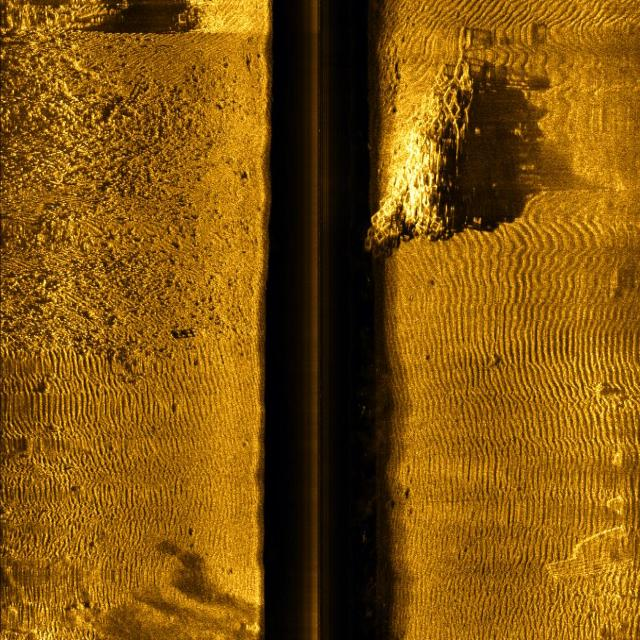artificial reef: (365, 56, 507, 266)
